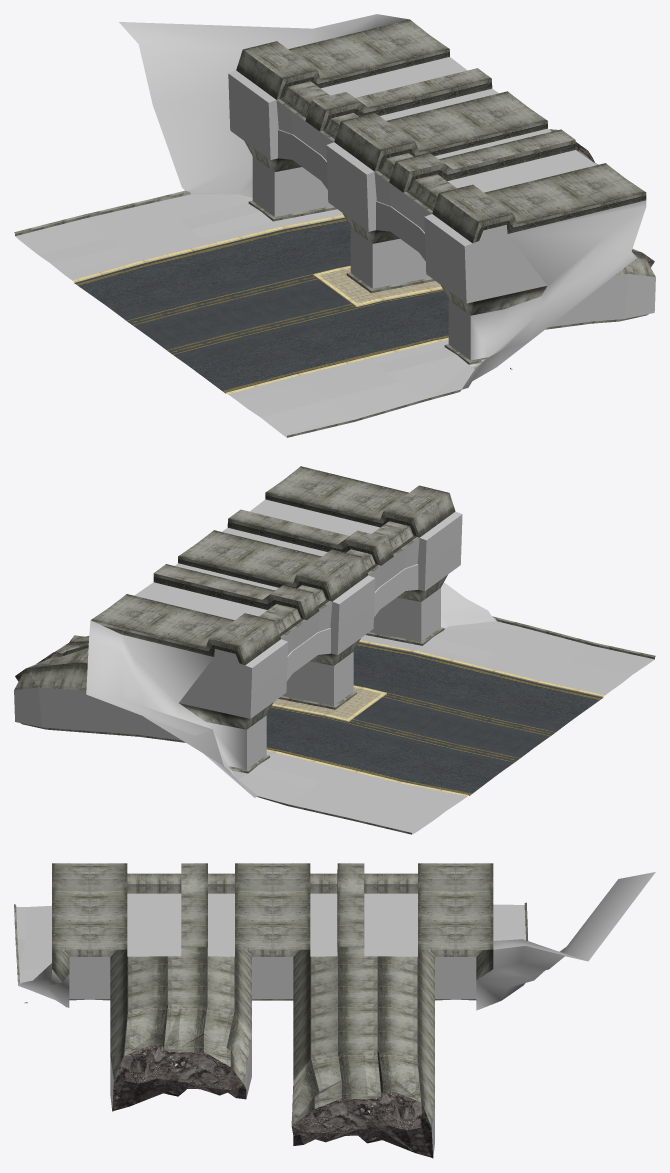
The model's file is Road_Tunnel_01.fbx.
The picture shows the model from 3 angles, top to bottom: view 1: azimuth 30°, elevation 25°; view 2: azimuth 150°, elevation 25°; view 3: azimuth 270°, elevation 25°; orthographic projection. The views are drawn at different scales.
Visible parts, largest first — view 1: Tunnel, Road; view 2: Tunnel, Road; view 3: Tunnel, Road.
Part boxes in pixels (bbox=[...]): Tunnel: bbox=[119, 14, 655, 389]; Road: bbox=[14, 190, 474, 437]; Tunnel: bbox=[14, 466, 496, 797]; Road: bbox=[232, 616, 655, 834]; Tunnel: bbox=[18, 863, 655, 1158]; Road: bbox=[14, 902, 528, 1093].
Size of the model in its own units: 4419 by 1477 by 5135.
